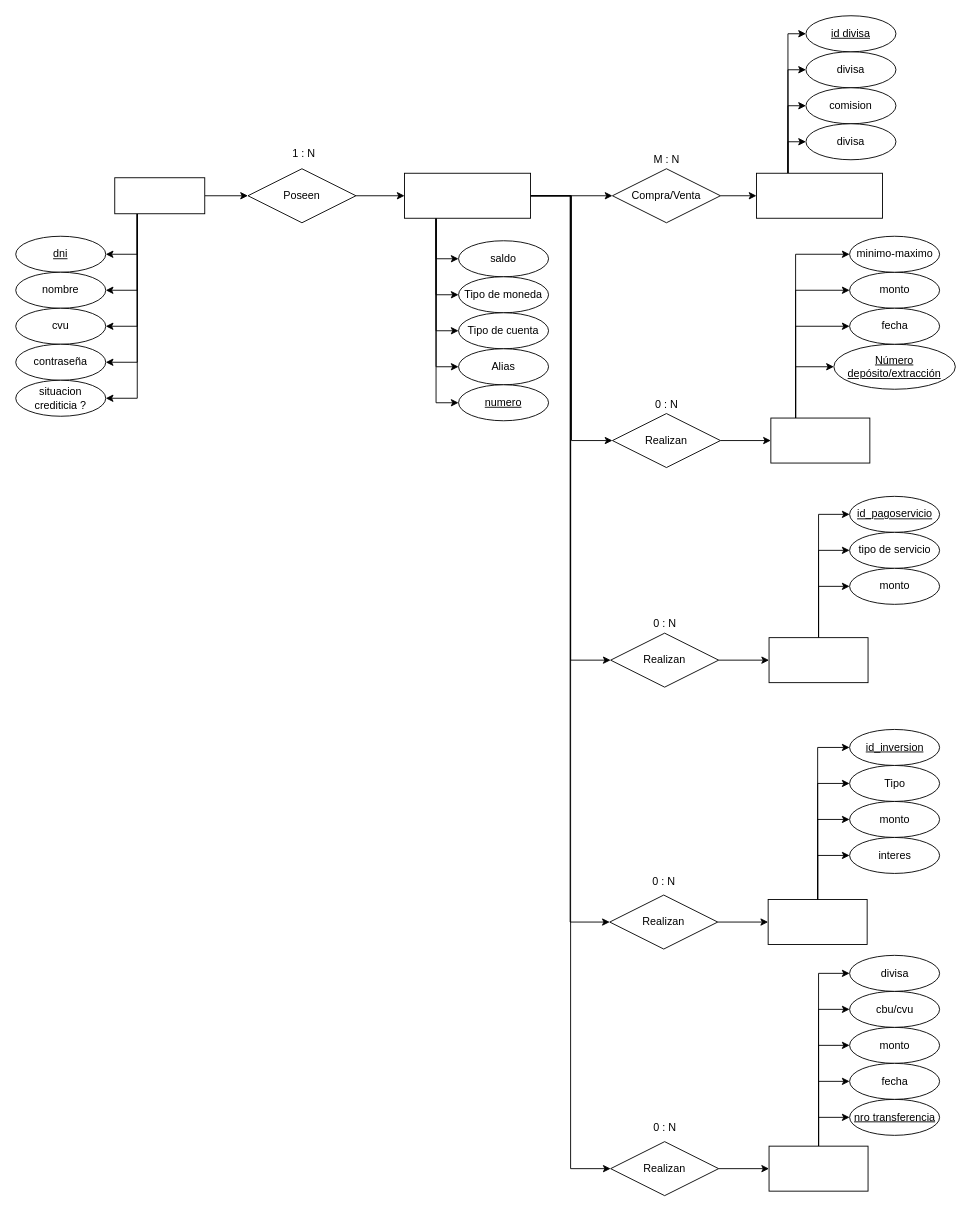
Image size: 971x1211. Some labels were removed from this diagram. The shapes that lost their labels are listed below. From the top down, each one's centre as x and y in pixels, then its label:
pixel 159 195: Usuarios
pixel 467 195: Cuentas
pixel 819 195: Moneda Extranjera
pixel 820 440: Extracción/Depósito
pixel 818 660: Pago de Servicios
pixel 817 922: Inversiones
pixel 818 1168: Transferencia a otras cuentas
